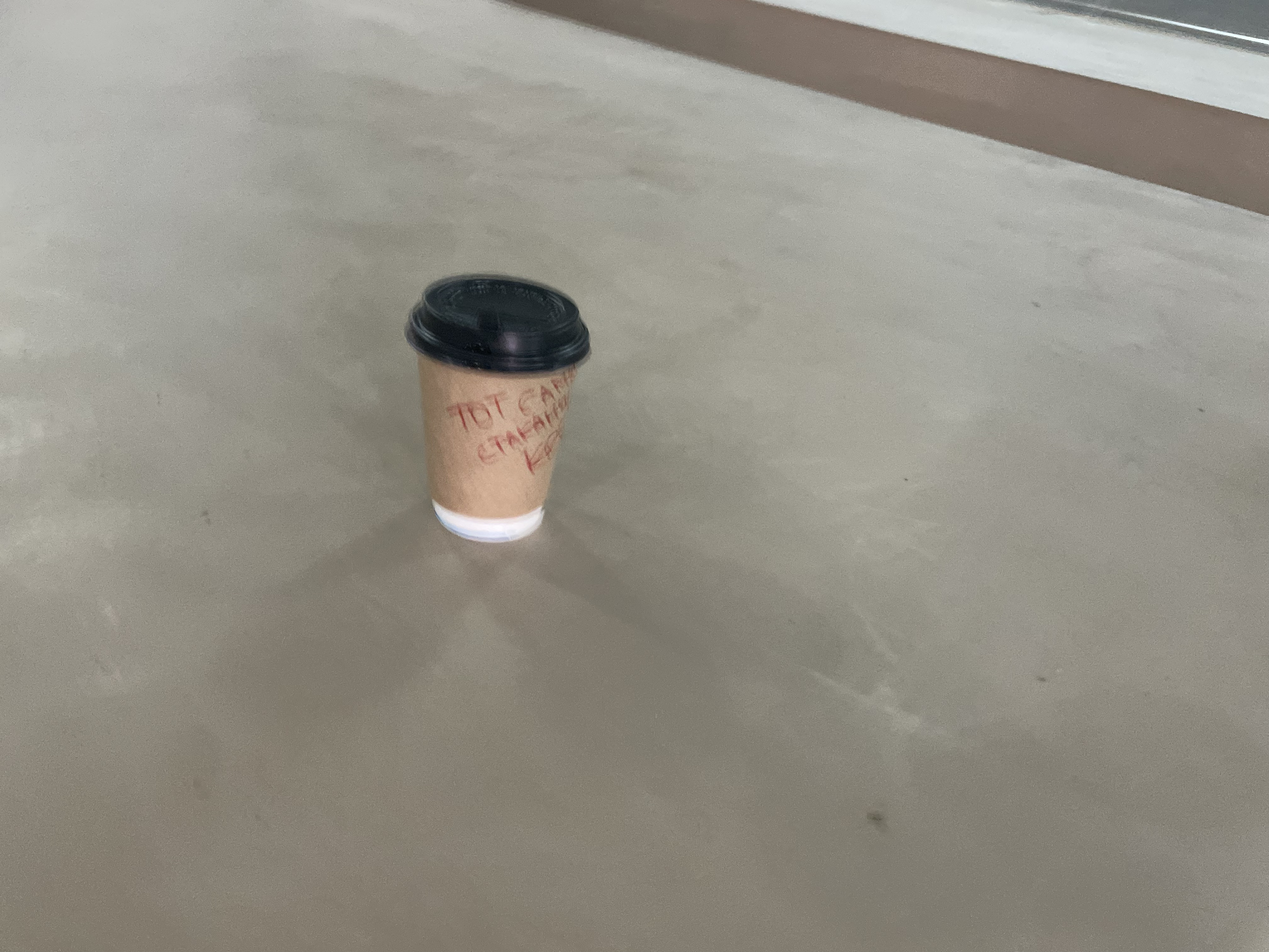cup: (403, 270, 591, 543)
